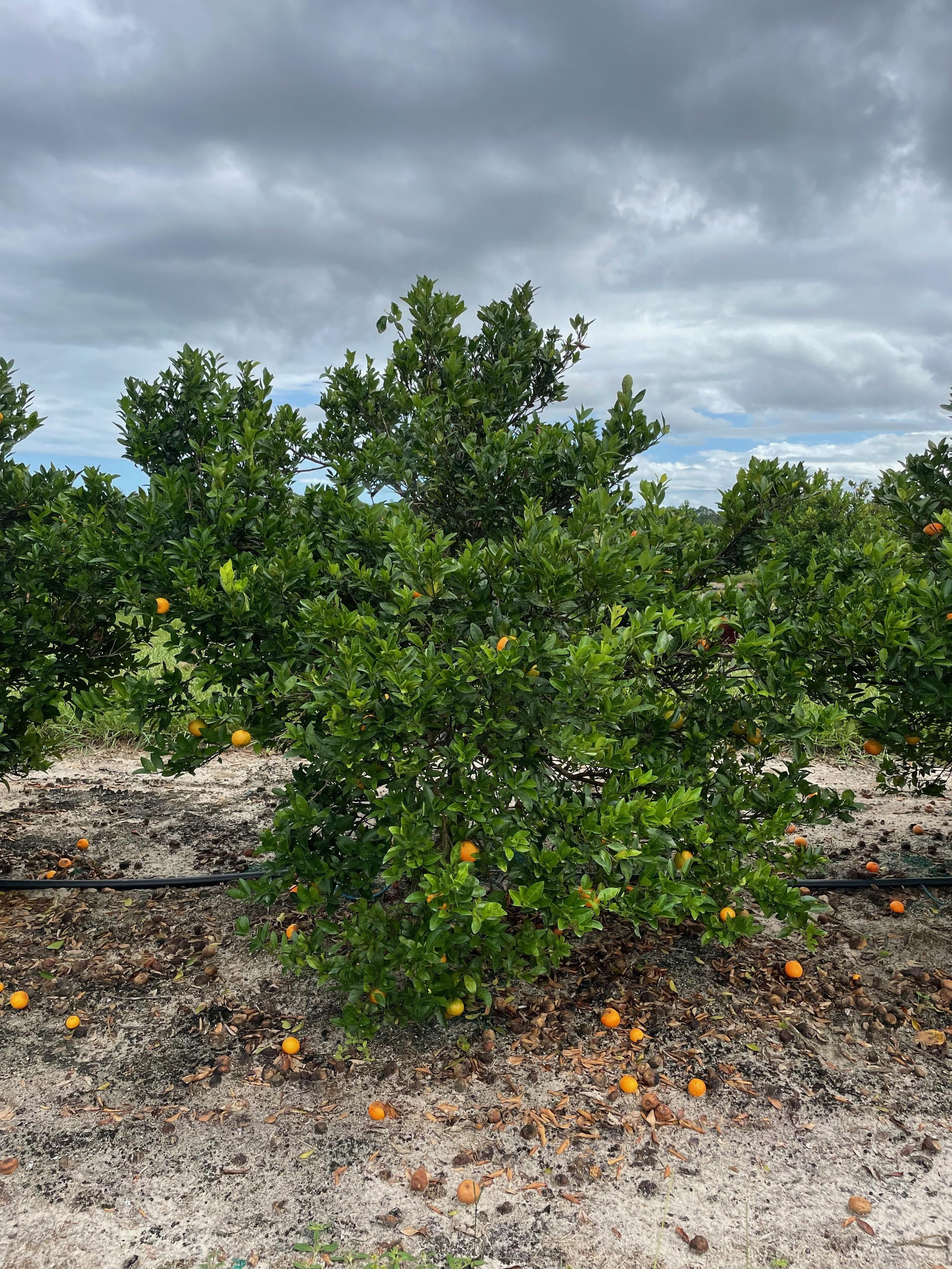fruit_on_ground: (494, 633, 523, 657), (457, 839, 483, 864), (659, 708, 686, 732), (920, 517, 947, 540), (577, 886, 602, 910), (671, 848, 696, 872), (186, 715, 211, 739), (357, 711, 382, 734), (365, 984, 390, 1007), (229, 727, 253, 750), (443, 996, 466, 1019), (150, 594, 172, 617), (861, 736, 885, 757), (729, 716, 751, 738), (789, 659, 812, 680), (901, 727, 924, 748), (744, 726, 766, 747), (520, 662, 542, 682), (717, 904, 738, 924), (694, 635, 713, 653)
fruit_on_tree: (455, 1178, 481, 1206), (846, 1192, 873, 1215), (408, 1166, 431, 1192), (599, 1006, 622, 1029), (8, 988, 30, 1011), (783, 958, 805, 981), (686, 1075, 708, 1098), (367, 1100, 388, 1122), (477, 1028, 497, 1051), (618, 1074, 639, 1095), (280, 1035, 302, 1055), (640, 1090, 660, 1110), (283, 921, 301, 941), (653, 1104, 672, 1122), (628, 1026, 647, 1044), (849, 934, 868, 951), (64, 1012, 81, 1030), (888, 897, 906, 914), (487, 1106, 502, 1122), (203, 962, 219, 977), (57, 854, 73, 869), (75, 835, 90, 850), (793, 834, 809, 848), (864, 858, 880, 872), (241, 844, 256, 858), (939, 976, 952, 992), (798, 884, 813, 897), (783, 821, 798, 834), (43, 867, 58, 879), (816, 913, 829, 925), (912, 823, 925, 834), (924, 804, 936, 815)
